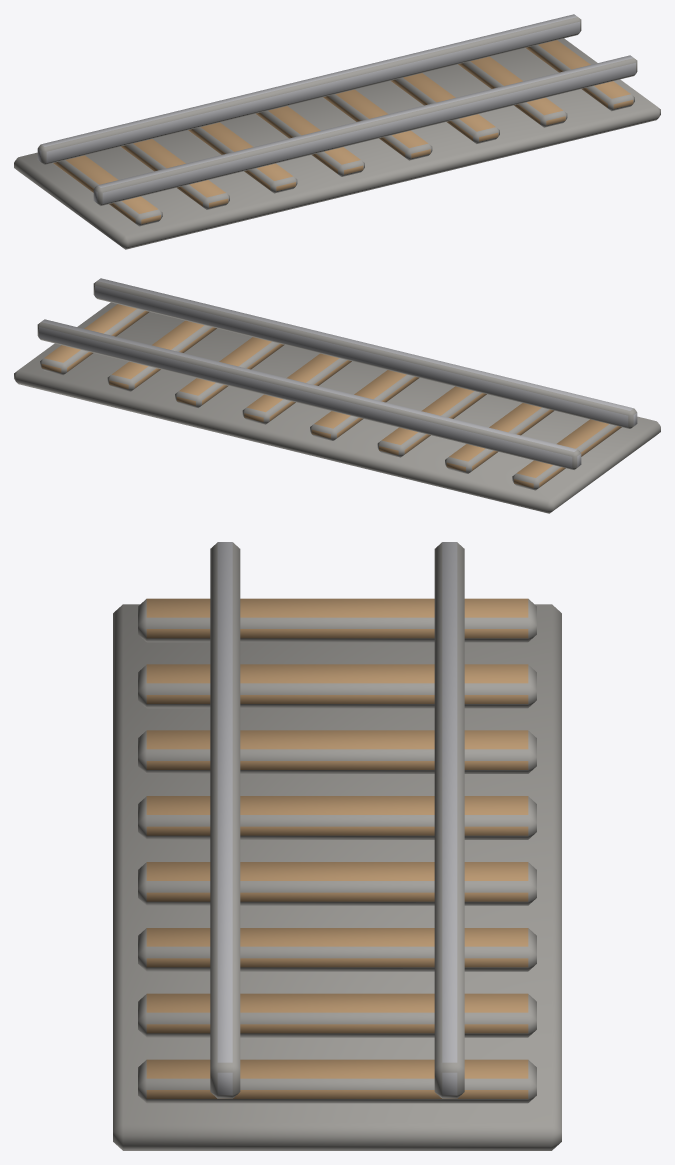
File: SM_RailStrip.fbx
The picture shows the model from 3 angles, top to bottom: view 1: azimuth 30°, elevation 25°; view 2: azimuth 150°, elevation 25°; view 3: azimuth 270°, elevation 25°; orthographic projection. The views are drawn at different scales.
Parts seen in each view (by area): view 1: SM_RailStrip; view 2: SM_RailStrip; view 3: SM_RailStrip.
Part boxes in pixels (x1,y1,x2,y2): SM_RailStrip: (14, 14, 660, 249); SM_RailStrip: (14, 278, 660, 513); SM_RailStrip: (113, 542, 561, 1150).
Bounding box in the file's own units: 1 × 0.079 × 0.36.
